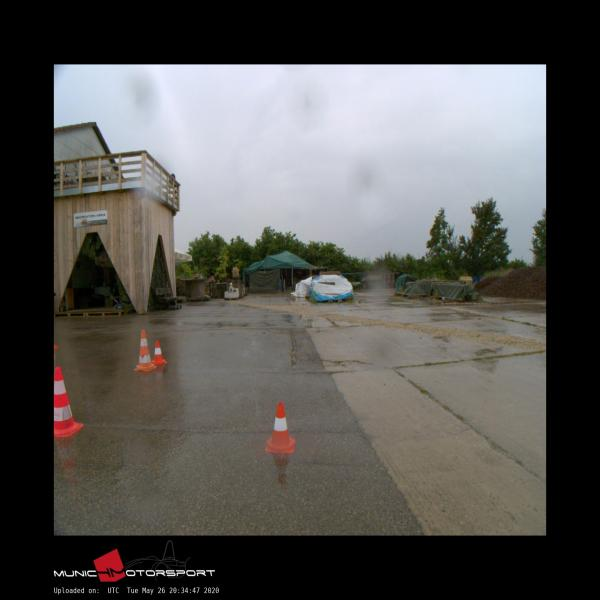large_orange_cone: (54, 367, 83, 437), (134, 329, 155, 370)
orange_cone: (264, 402, 296, 453), (151, 340, 167, 364)
